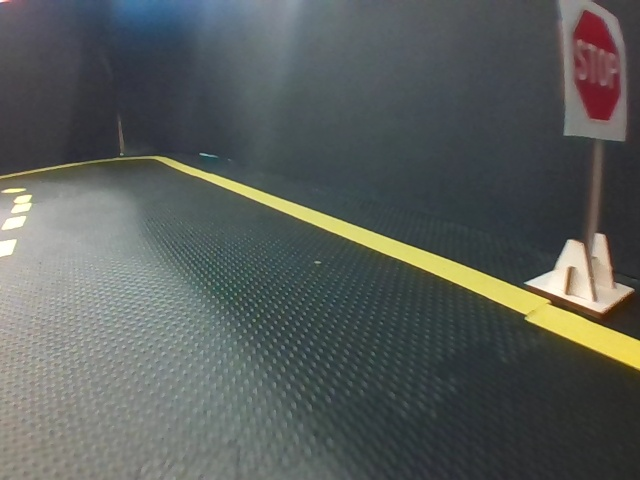stop: (561, 1, 629, 143)
